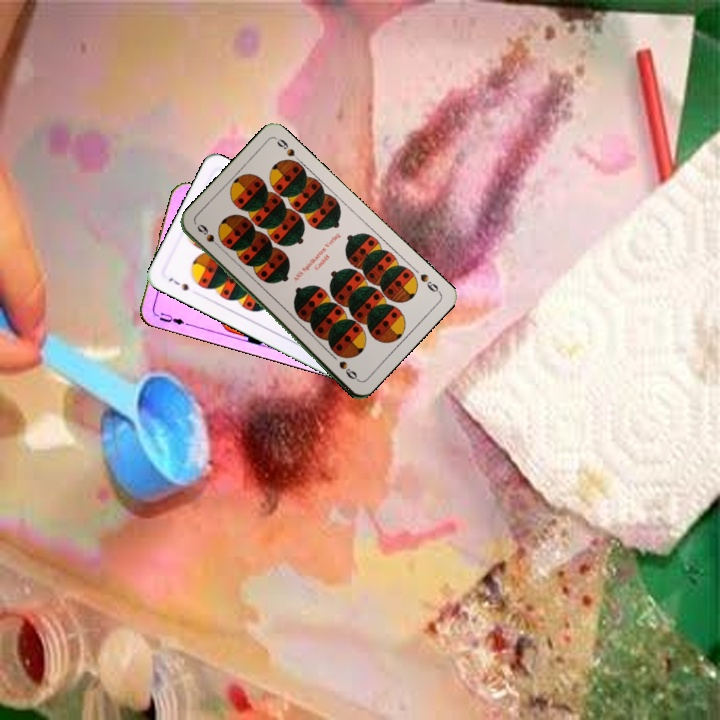EU: (151, 308, 187, 327)
S7: (165, 273, 191, 294)
S9: (193, 220, 225, 252), (416, 269, 443, 296)
